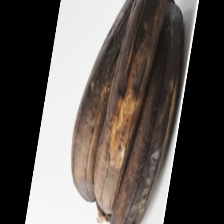banana: (0, 51, 196, 210)
